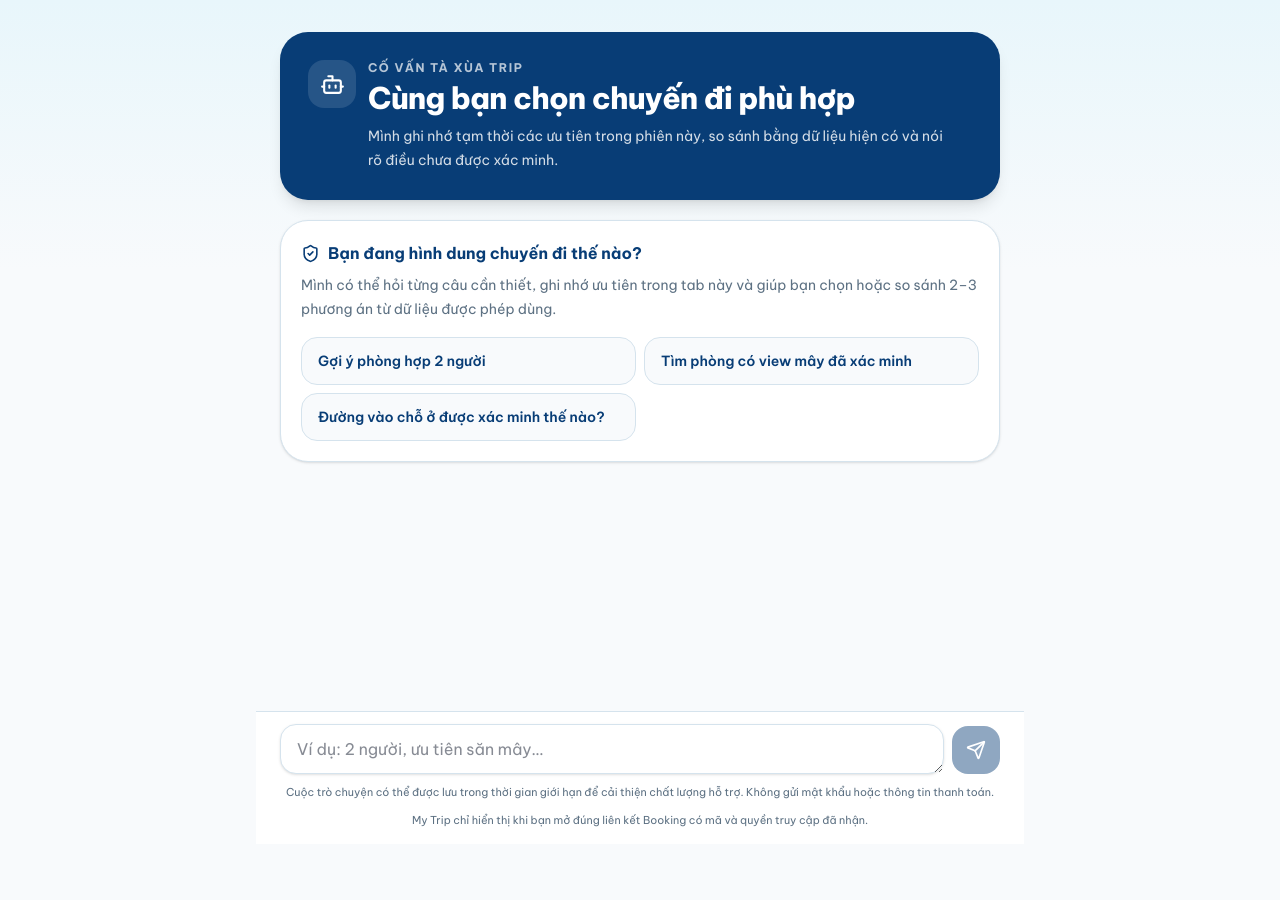
Test case: Phase 13A AssistantExperience states › shows safe rate-limit feedback, fallback actions and retry
Step 1. Type "Tìm phòng" into the text box named "Câu hỏi cho Trợ lý Tà Xùa Trip" → [612, 749], box [280,724,944,774]
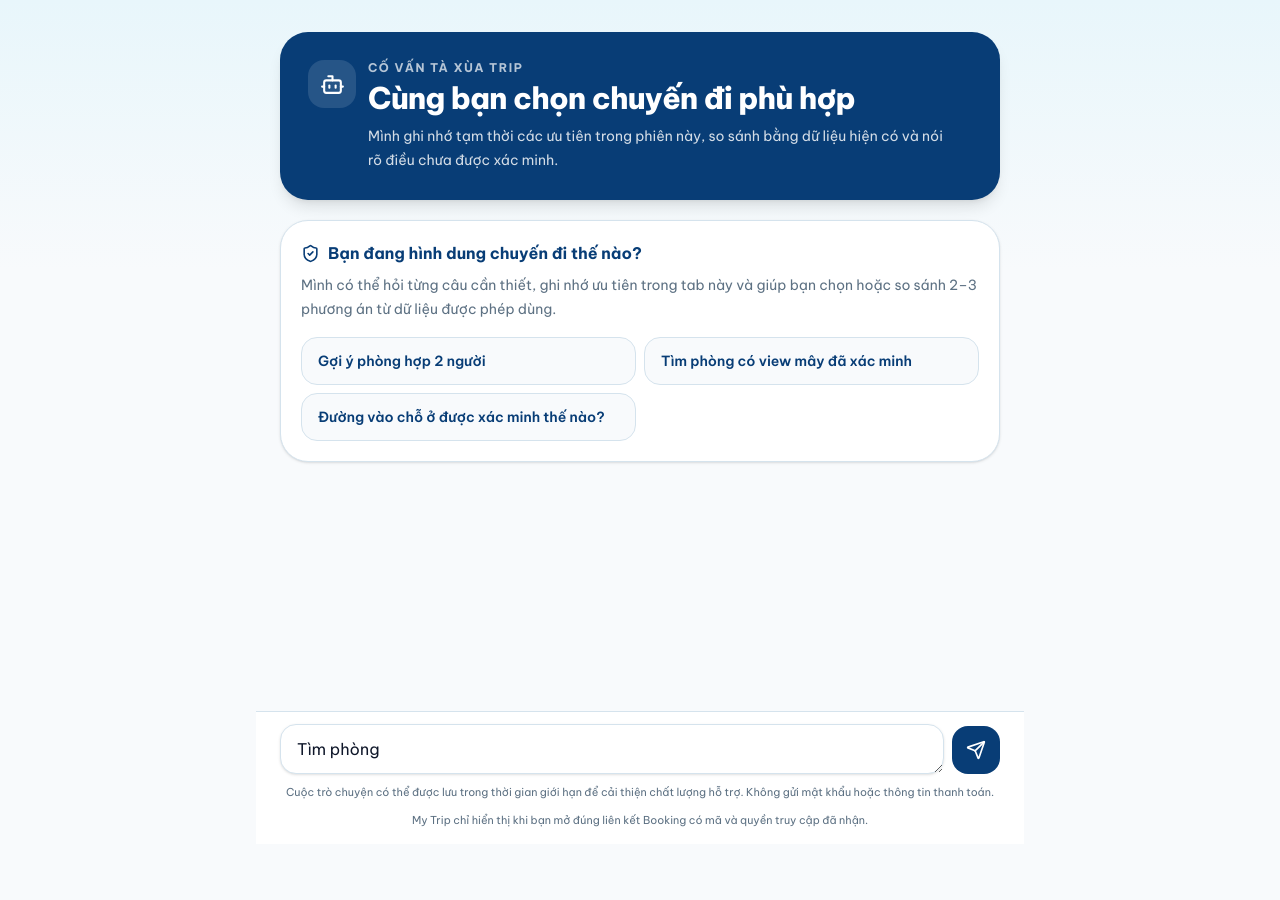
Step 2. Click the button named "Gửi câu hỏi" → [976, 750], box [952,726,1000,774]
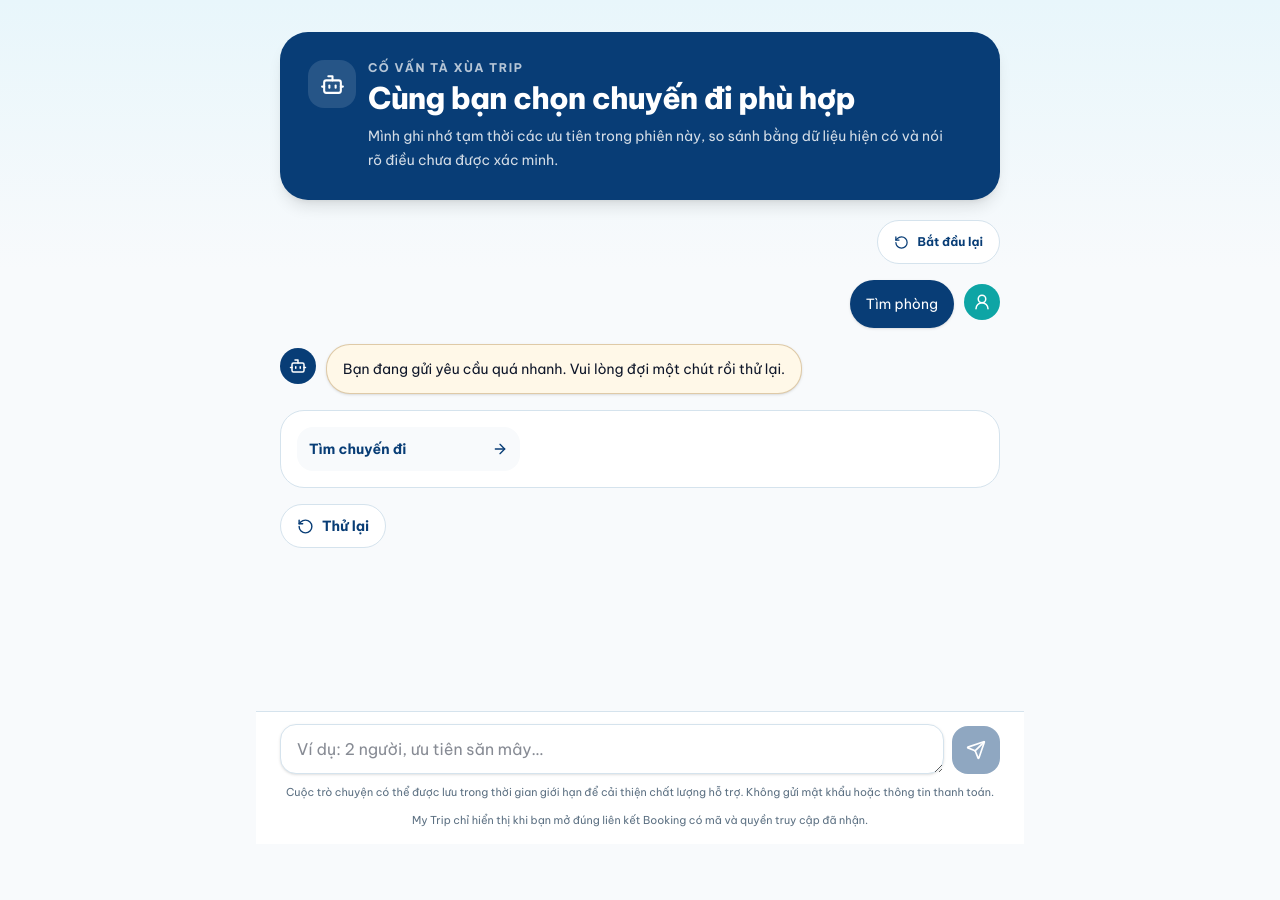
Check: the text "đang gửi yêu cầu quá nhanh" is shown, box [343,360,785,378]
Check: the button "Thử lại" is shown, box [280,504,386,548]
